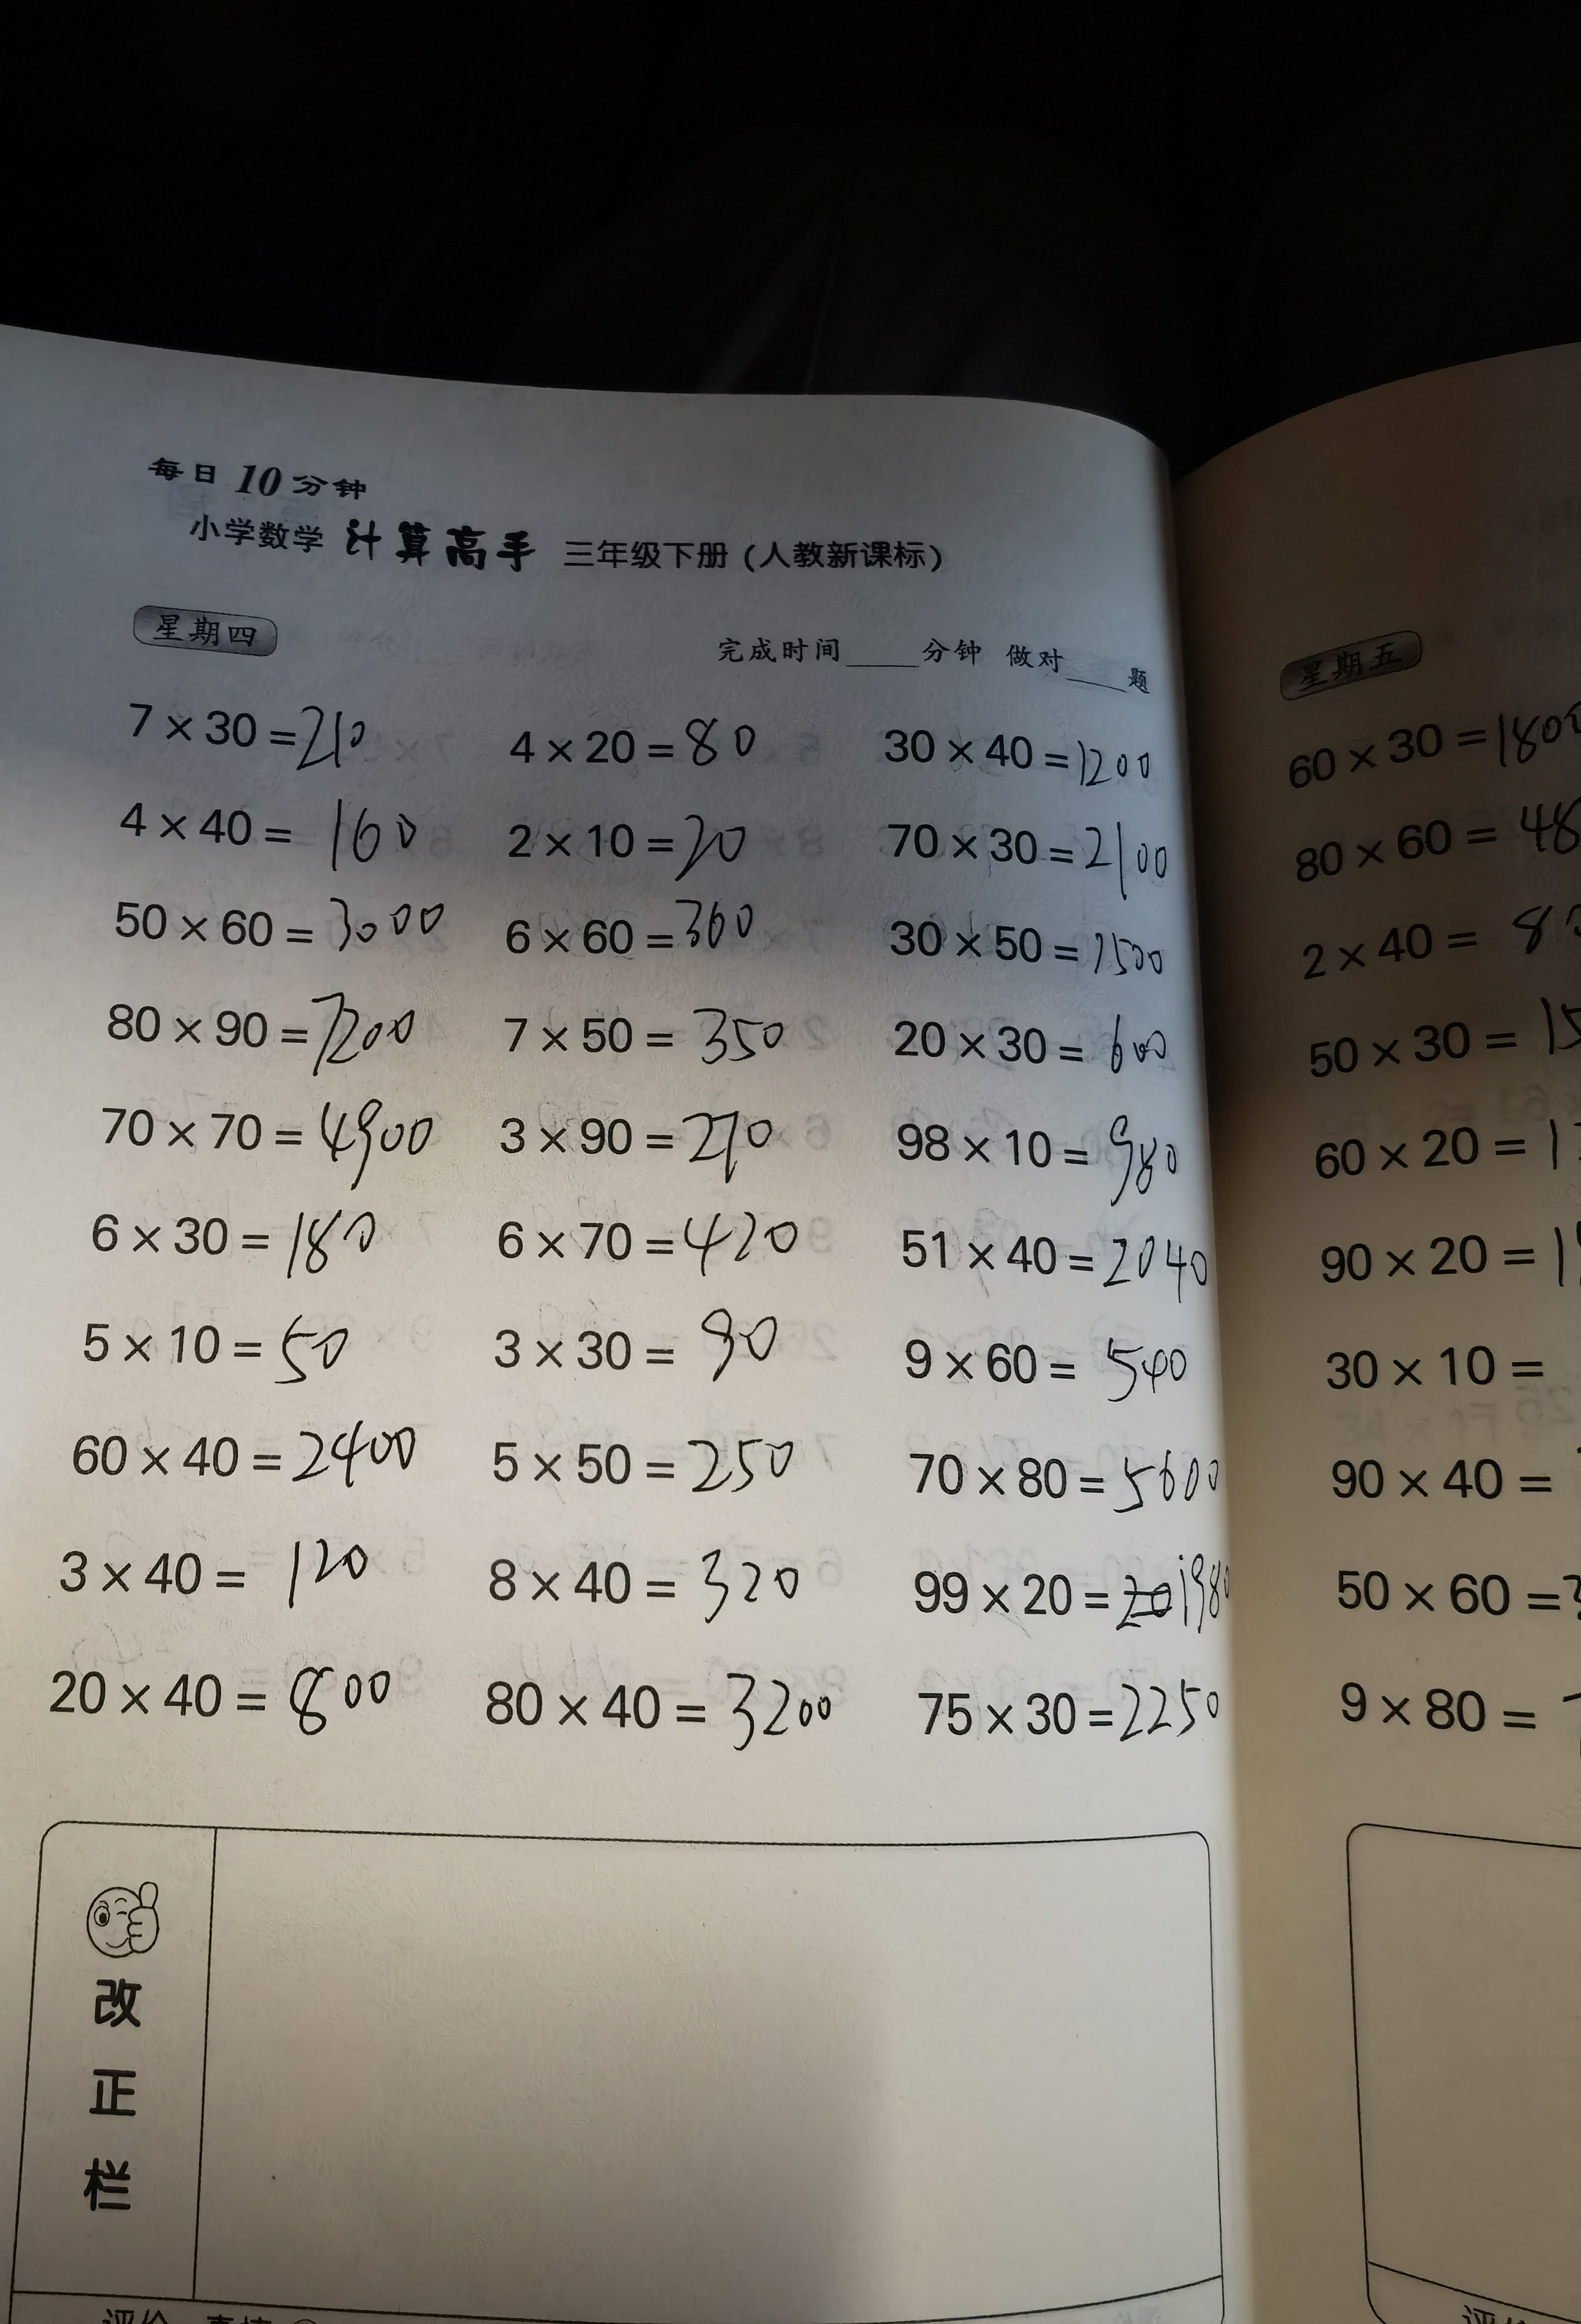equation: (48, 1627, 422, 1763), (464, 1657, 866, 1772), (48, 1511, 406, 1618), (478, 1292, 840, 1394), (480, 1532, 845, 1632), (889, 1652, 1230, 1759), (889, 1212, 1237, 1316), (88, 1091, 459, 1188), (875, 1549, 1251, 1643), (102, 877, 475, 971), (880, 1098, 1209, 1203), (71, 1417, 455, 1503), (113, 976, 448, 1075), (469, 1195, 824, 1286), (101, 660, 393, 769), (889, 1435, 1235, 1526), (861, 1002, 1203, 1094), (879, 805, 1202, 902), (870, 715, 1177, 812), (65, 1292, 395, 1382), (485, 896, 815, 986), (872, 1316, 1200, 1406), (476, 1417, 822, 1502), (111, 778, 416, 873), (884, 905, 1182, 1001), (478, 799, 805, 882), (494, 1099, 792, 1188), (499, 704, 775, 792), (480, 1004, 806, 1078), (90, 1198, 379, 1276)
